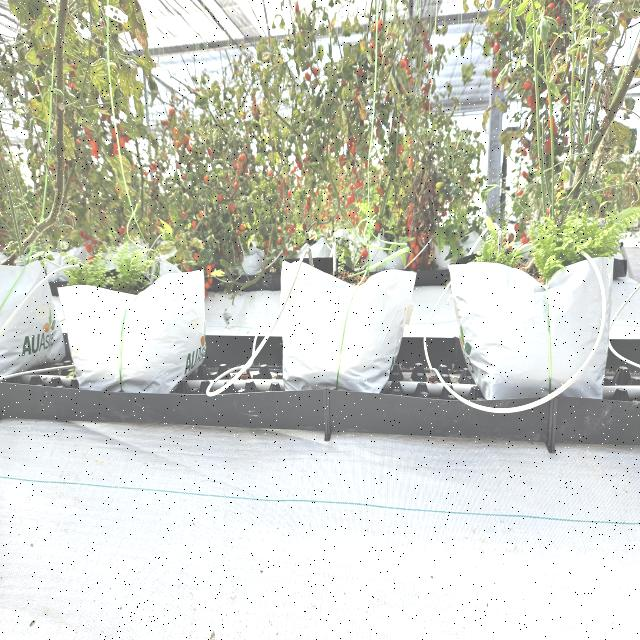Obstacle: (544, 255, 614, 409), (247, 241, 310, 362)
Soilbag: (458, 255, 612, 398), (61, 267, 205, 390), (280, 262, 413, 390)
plant: (278, 29, 405, 277), (474, 18, 600, 266), (66, 38, 193, 284)
